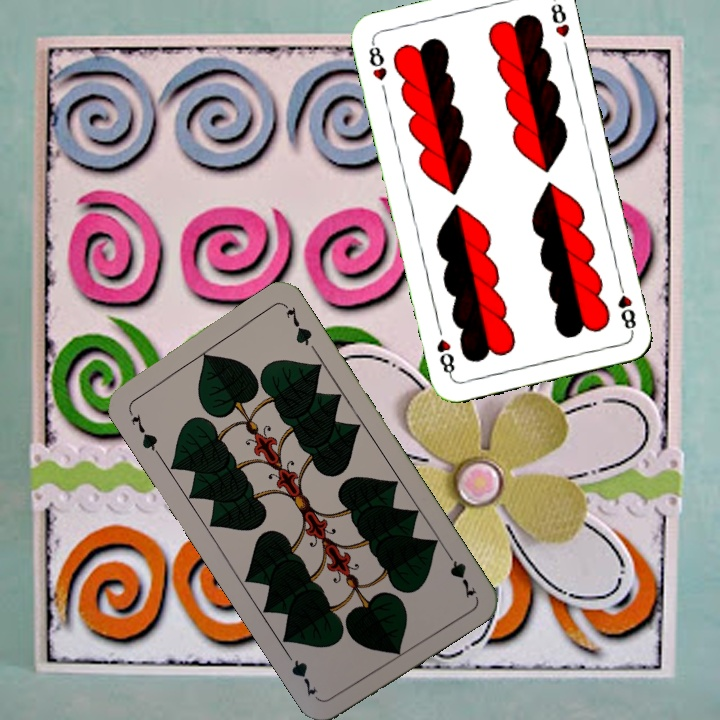G7: (440, 545, 479, 601), (124, 405, 163, 458)
H8: (613, 278, 639, 336), (364, 38, 390, 84)
